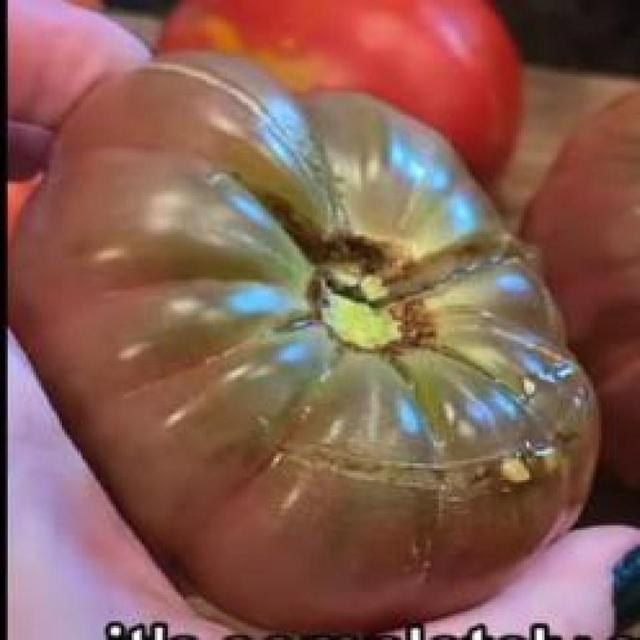Cracking Fruit: (174, 276, 395, 336)
